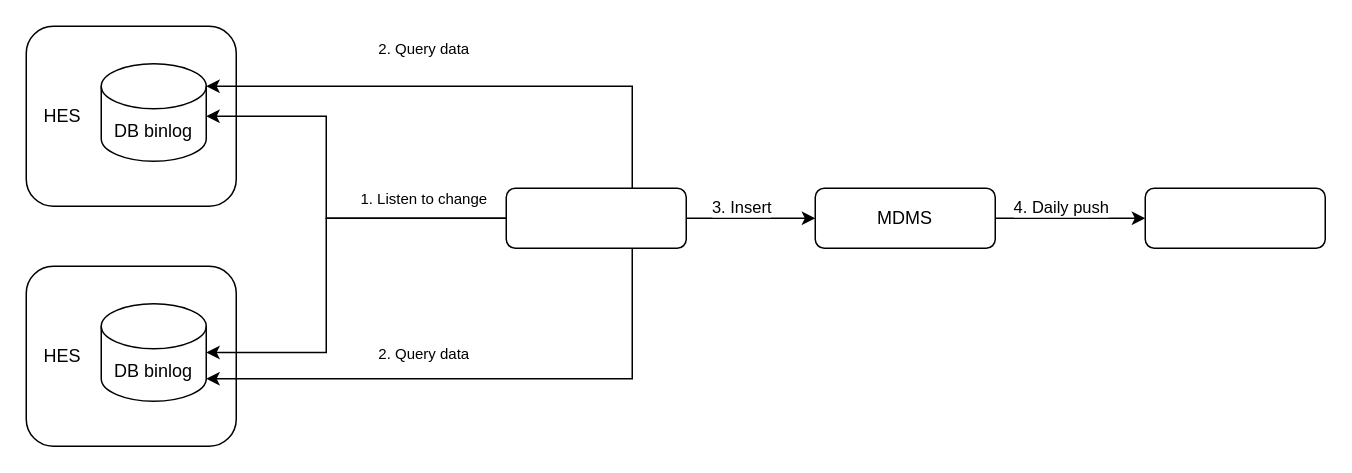
This 1352x473 diagram has some shape labels left out. Each missing label, with the box of its shape:
Data Warehouse: (1144, 187, 1325, 248)
Sync Engine: (505, 187, 686, 248)
